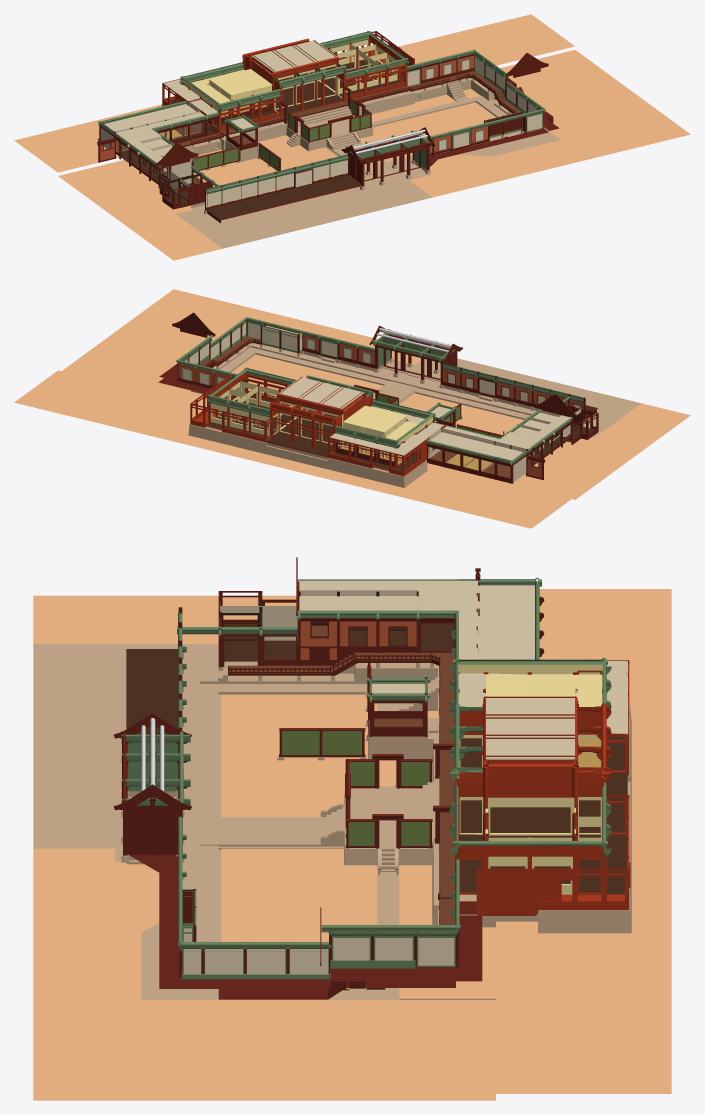
Rendered from Daejojeon_Optimized_2.13.22.fbx.
3 renders of one model, top to bottom at view 1: azimuth 30°, elevation 25°; view 2: azimuth 150°, elevation 25°; view 3: azimuth 270°, elevation 25°, orthographic. The views are drawn at different scales.
Visible parts, largest first — view 1: Ground_GateHaenggakFar, Ground_KingsRooms, Ground_GateHaenggakNear, Ground_Playzone, OuterHaenggak_GateSideNear, Gatehouse, DJJ_GreatHallNear, DJJ_KingsRoom, OuterHaenggak_GateSideFar, OuterHaenggak_Farthest, Foundation_FarHaenggak, Foundation_FrontPlatform (+28 smaller); view 2: Ground_KingsRooms, Ground_Playzone, Ground_GateHaenggakFar, Ground_GateHaenggakNear, DJJ_GreatHallFar, OuterHaenggak_GateSideNear, OuterHaenggak_GateSideFar, Gatehouse, OuterHaenggak_Farthest, DJJ_KingsCorridor, DJJ_KingsRoom, Foundation_GateHaenggakFar.001 (+25 smaller); view 3: Ground_KingsRooms, Ground_GateHaenggakFar, Ground_GateHaenggakNear, Ground_Playzone, OuterHaenggak_Farthest, Foundation_FrontPlatform, DJJ_KingsRoom, Gatehouse, DJJ_GreatHallFar, DJJ_GreatHallNear, Foundation_GungnyeoRooms, GungnyeoQuarters (+26 smaller).
Boxes of the visible parts, x1,y1,x2,y2 form: Ground_GateHaenggakFar: [384, 78, 690, 197]; Ground_KingsRooms: [360, 14, 613, 145]; Ground_GateHaenggakNear: [116, 180, 432, 260]; Ground_Playzone: [14, 104, 337, 218]; OuterHaenggak_GateSideNear: [204, 154, 360, 223]; Gatehouse: [341, 127, 437, 190]; DJJ_GreatHallNear: [262, 48, 346, 116]; DJJ_KingsRoom: [324, 37, 414, 100]; OuterHaenggak_GateSideFar: [423, 109, 548, 159]; OuterHaenggak_Farthest: [407, 49, 559, 130]; Foundation_FarHaenggak: [408, 71, 553, 132]; Foundation_FrontPlatform: [282, 101, 416, 170]; Ground_KingsRooms: [14, 345, 306, 465]; Ground_Playzone: [273, 401, 632, 528]; Ground_GateHaenggakFar: [97, 289, 420, 389]; Ground_GateHaenggakNear: [404, 358, 690, 457]; DJJ_GreatHallFar: [265, 385, 353, 457]; OuterHaenggak_GateSideNear: [442, 363, 597, 422]; OuterHaenggak_GateSideFar: [247, 317, 374, 371]; Gatehouse: [369, 325, 462, 388]; OuterHaenggak_Farthest: [158, 317, 247, 393]; DJJ_KingsCorridor: [190, 390, 277, 442]; DJJ_KingsRoom: [208, 367, 306, 429]; Foundation_GateHaenggakFar.001: [255, 345, 424, 385]; Ground_KingsRooms: [262, 841, 671, 1100]; Ground_GateHaenggakFar: [33, 848, 341, 1100]; Ground_GateHaenggakNear: [33, 595, 262, 848]; Ground_Playzone: [262, 589, 671, 841]; OuterHaenggak_Farthest: [159, 859, 482, 988]; Foundation_FrontPlatform: [200, 775, 454, 915]; DJJ_KingsRoom: [449, 782, 575, 915]; Gatehouse: [113, 713, 191, 872]; DJJ_GreatHallFar: [530, 696, 629, 834]; DJJ_GreatHallNear: [449, 696, 530, 834]; Foundation_GungnyeoRooms: [218, 652, 451, 694]; GungnyeoQuarters: [296, 579, 418, 665].
Bounding box in the file's own units: 8272 × 833 × 4422.
